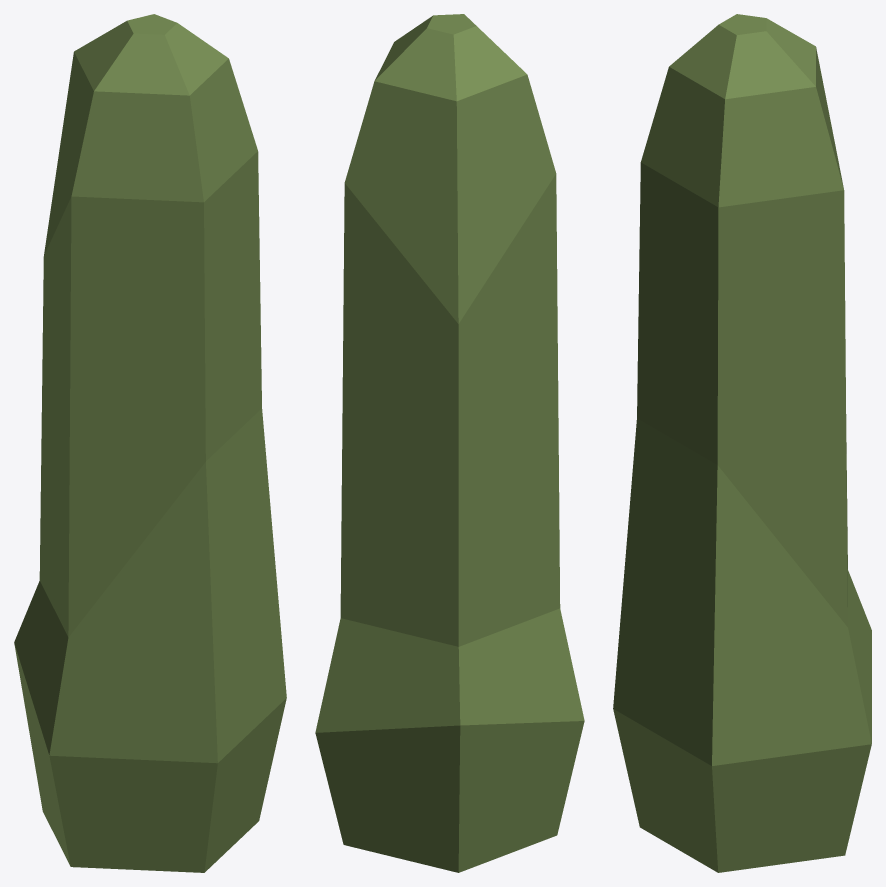
Rendered from cactus2.fbx.
3 views of the same model, side by side, from view 1: azimuth 30°, elevation 25°; view 2: azimuth 150°, elevation 25°; view 3: azimuth 270°, elevation 25° (orthographic).
Visible parts, largest first — view 1: cactus2; view 2: cactus2; view 3: cactus2.
Part boxes in pixels (x1=…): cactus2: x1=14, y1=14, x2=286, y2=872; cactus2: x1=315, y1=14, x2=584, y2=872; cactus2: x1=613, y1=14, x2=871, y2=872.
Size of the model in its own units: 1.47 by 4.79 by 1.4.
